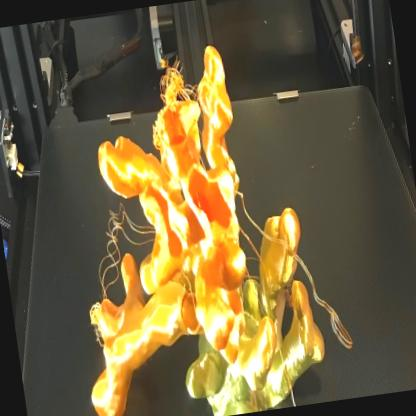fail: (85, 198, 155, 260), (87, 259, 124, 300)
